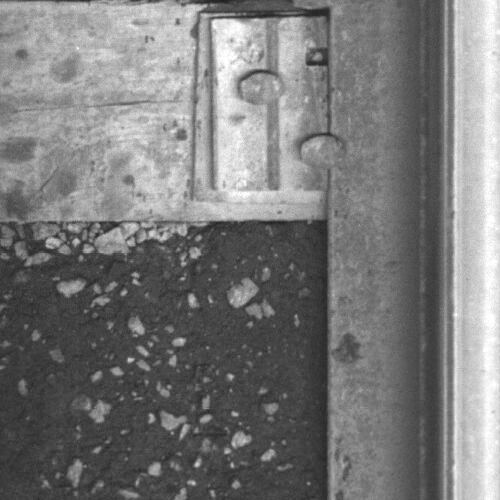do: (210, 16, 351, 190)
hole_do: (294, 35, 348, 77)
rail: (447, 1, 500, 500)
tie_wood: (1, 6, 328, 220)
